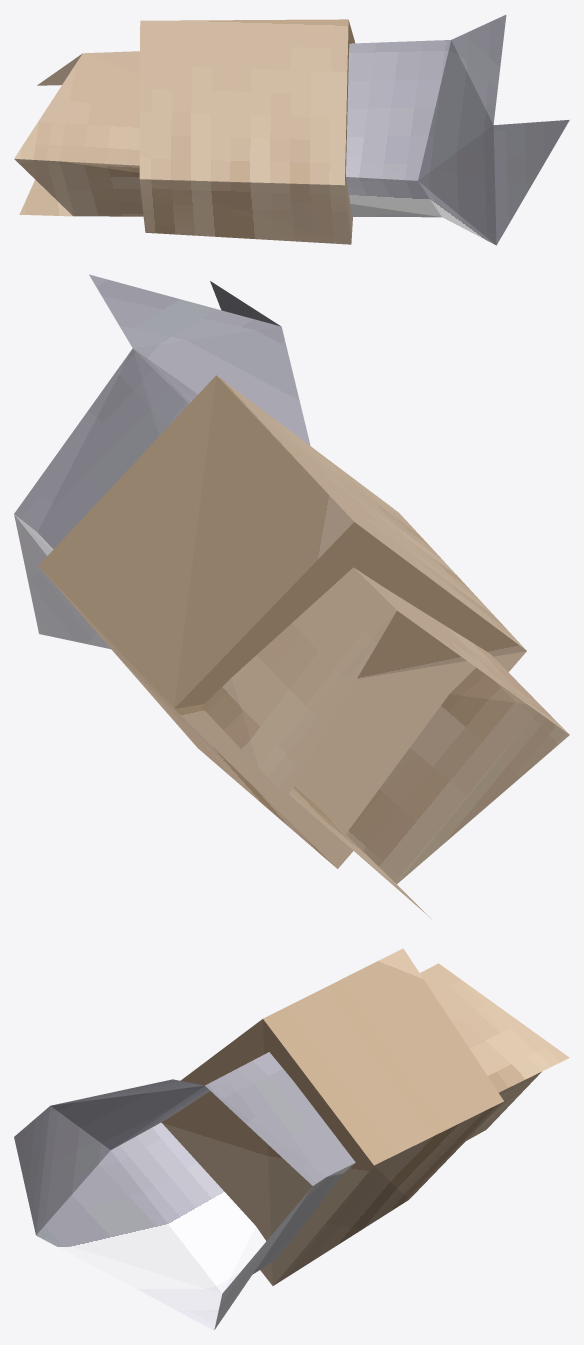
The model's file is character_n19.obj.
3 views of the same model, one above another, from view 1: azimuth 30°, elevation 25°; view 2: azimuth 150°, elevation 25°; view 3: azimuth 270°, elevation 25° (orthographic). The views are drawn at different scales.
Size of the model in its own units: 19.8 by 10.89 by 20.39.
Materials: 2 (2 with a texture image).
